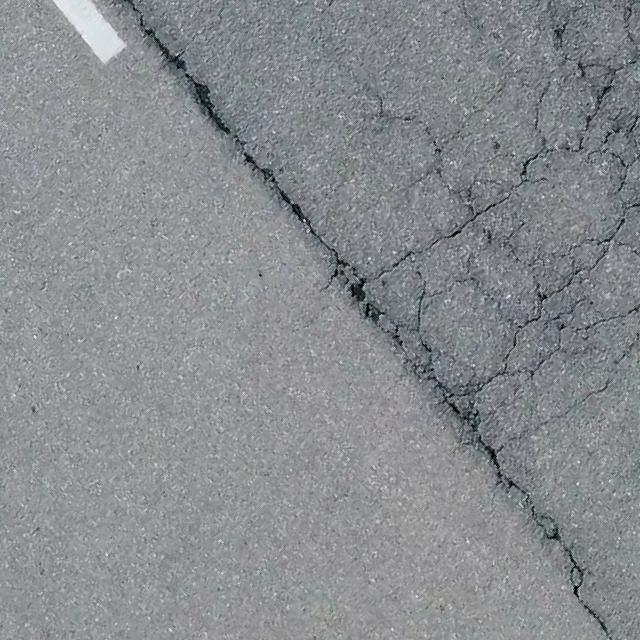GRIETA: (122, 0, 612, 639)
PIEL DE COCODRILO: (363, 0, 639, 454)
